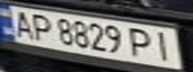2: (87, 20, 106, 53)
8: (51, 16, 75, 47), (69, 18, 90, 50)
9: (103, 22, 127, 56)
A: (6, 8, 36, 39)
I: (148, 29, 181, 62)
P: (124, 25, 157, 58), (27, 11, 57, 43)
